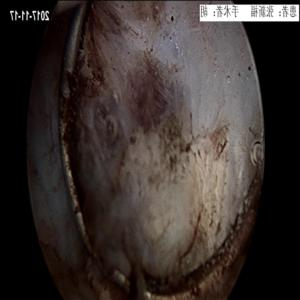film: (95, 48, 217, 165)
